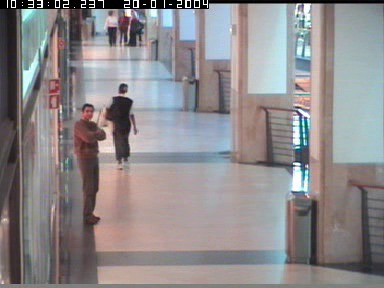person: (72, 102, 106, 223), (96, 83, 138, 169), (105, 9, 117, 46), (117, 11, 129, 43)
